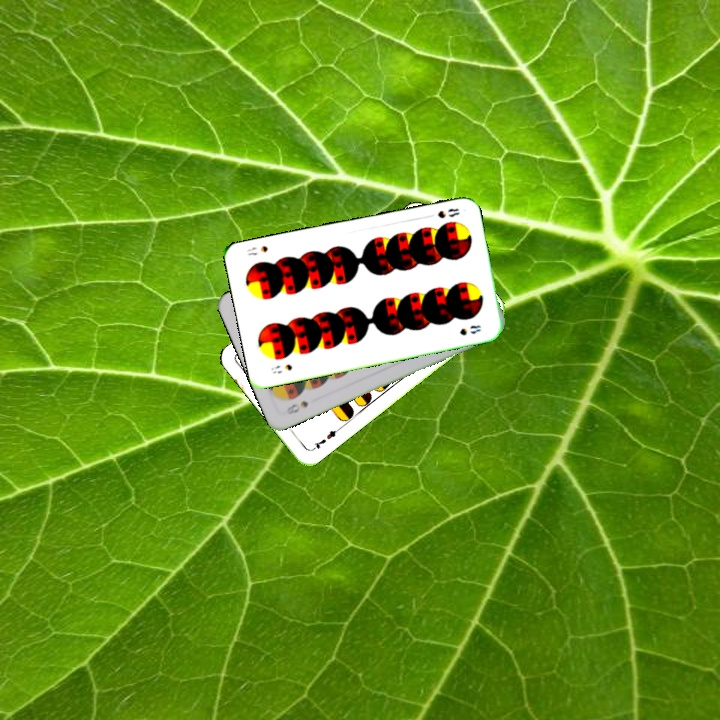E7: (307, 424, 342, 453)
S8: (282, 397, 311, 417), (433, 204, 462, 221), (267, 360, 295, 376)
